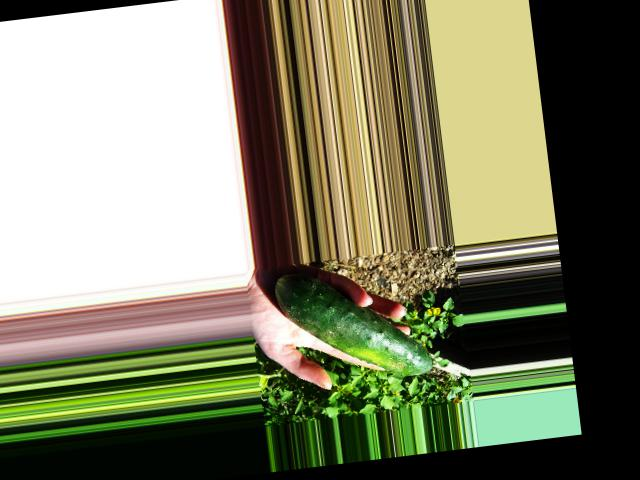cucumber: (274, 258, 434, 390)
